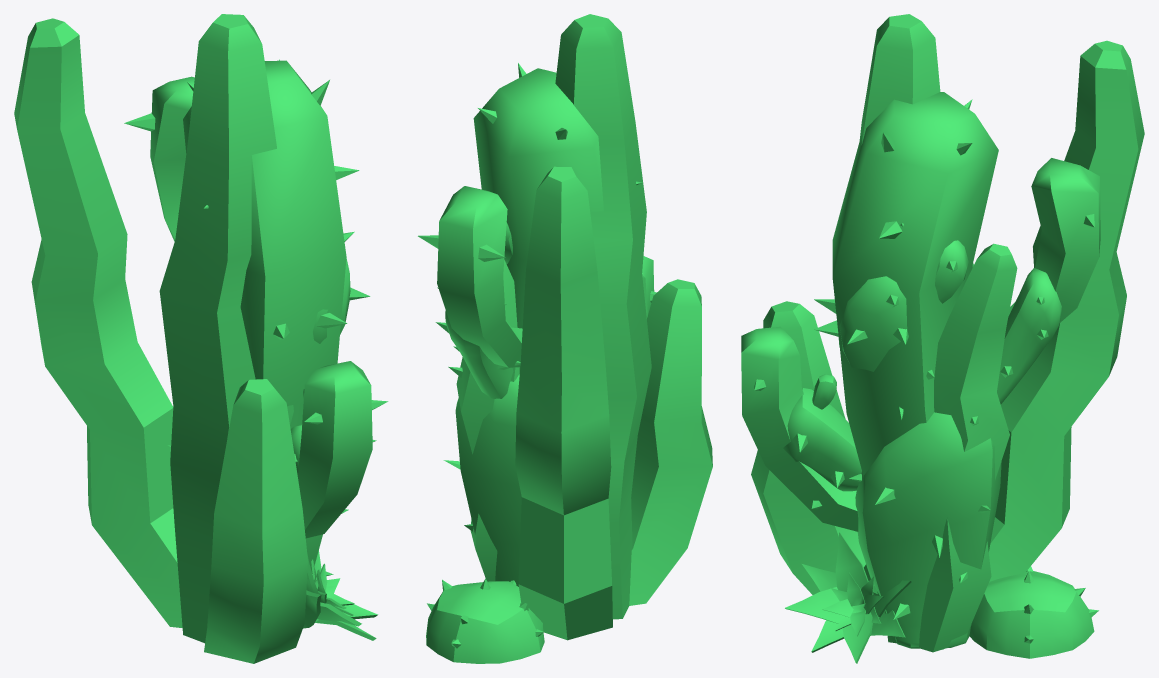
Rendered from cactus.fbx.
3 renders of one model, left to right at view 1: azimuth 30°, elevation 25°; view 2: azimuth 150°, elevation 25°; view 3: azimuth 270°, elevation 25°, orthographic. The views are drawn at different scales.
Parts seen in each view (by area): view 1: 3, 1, 2; view 2: 3, 1, 2; view 3: 3, 1, 2.
Boxes of the visible parts, box(x1,y1,x2,y2) form: 3: box(14, 14, 377, 663); 1: box(124, 59, 388, 538); 2: box(168, 213, 376, 576); 3: box(426, 14, 712, 663); 1: box(418, 63, 656, 373); 2: box(435, 222, 521, 586); 3: box(751, 14, 1144, 663); 1: box(741, 92, 1100, 649); 2: box(783, 223, 1061, 648).
Size of the model in its own units: 292 by 739 by 456.
